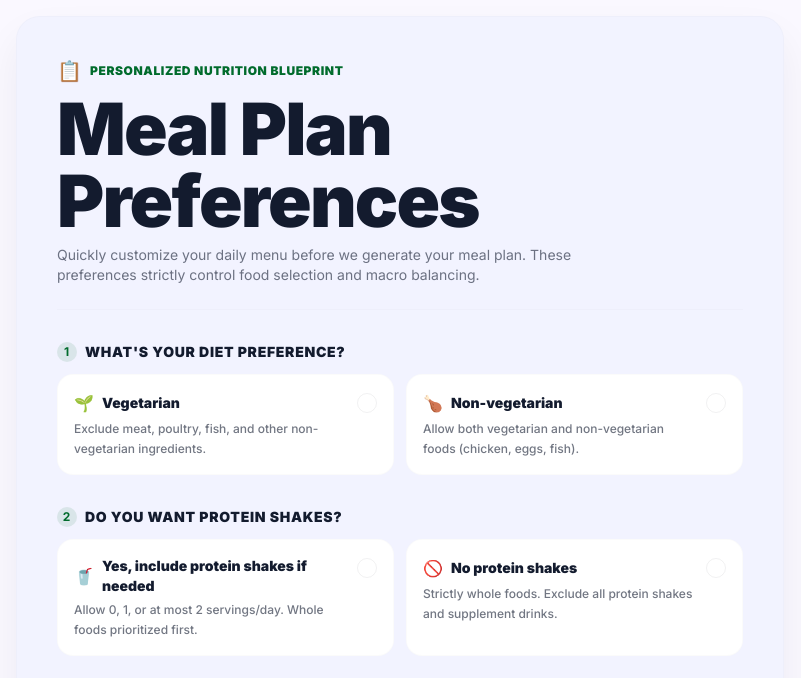
MealPlanQuestionnaire Component › meat-selection question appears only for non-vegetarian users and supports multi-select
The image size is (801, 678).
Click the button with id "diet-opt-vegetarian" at (226, 424), box [57,374,394,475]
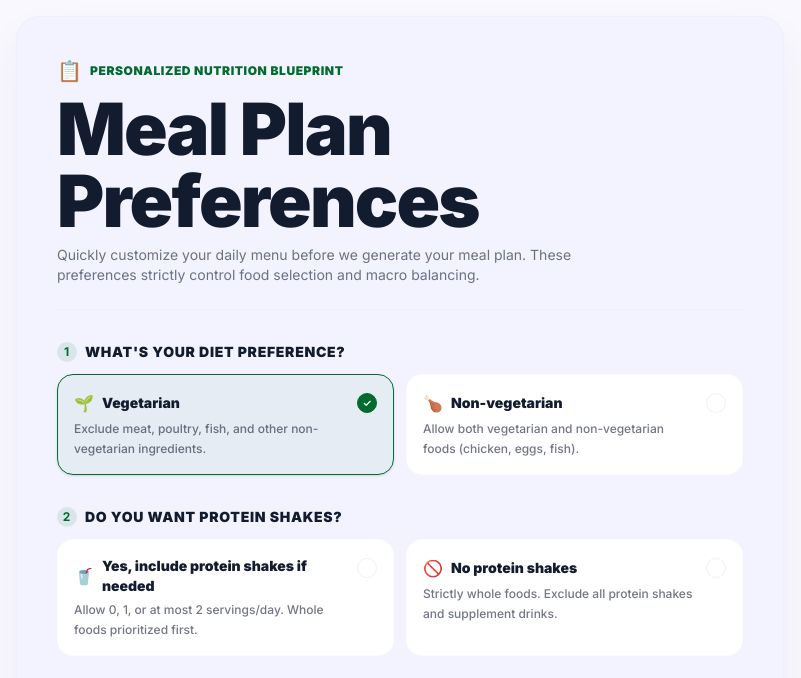
Expected: the text "Which non-vegetarian foods do you eat?" is not shown
Click the button with id "diet-opt-non-vegetarian" at (574, 424), box [406,374,743,475]
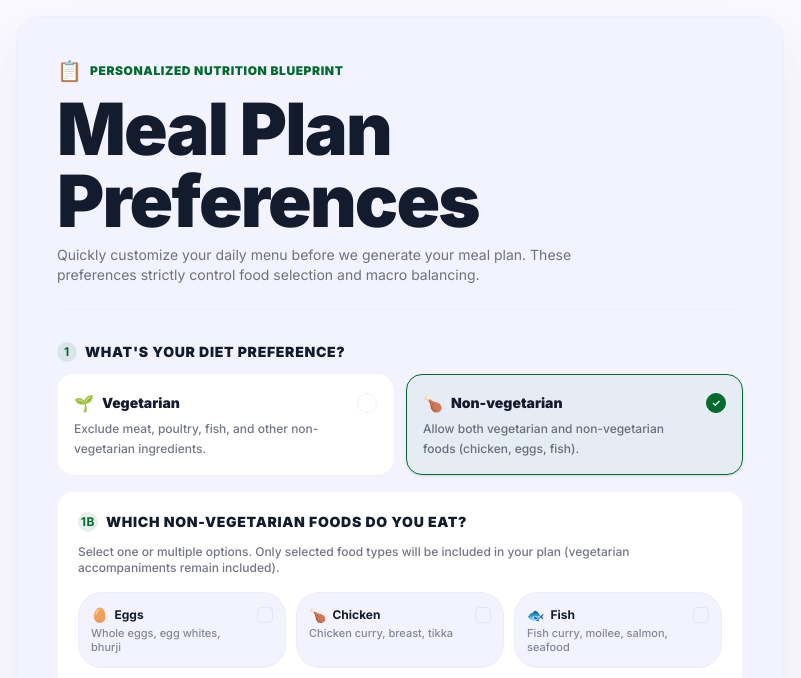
Now the text "Which non-vegetarian foods do you eat?" is shown, box [106,512,467,532]
Now the button with id "meat-opt-eggs" is shown
Now the button with id "meat-opt-chicken" is shown, box [296,592,504,668]
# Multi-select Eggs and Chicken
Click the button with id "meat-opt-eggs" at (182, 630), box [78,592,286,668]
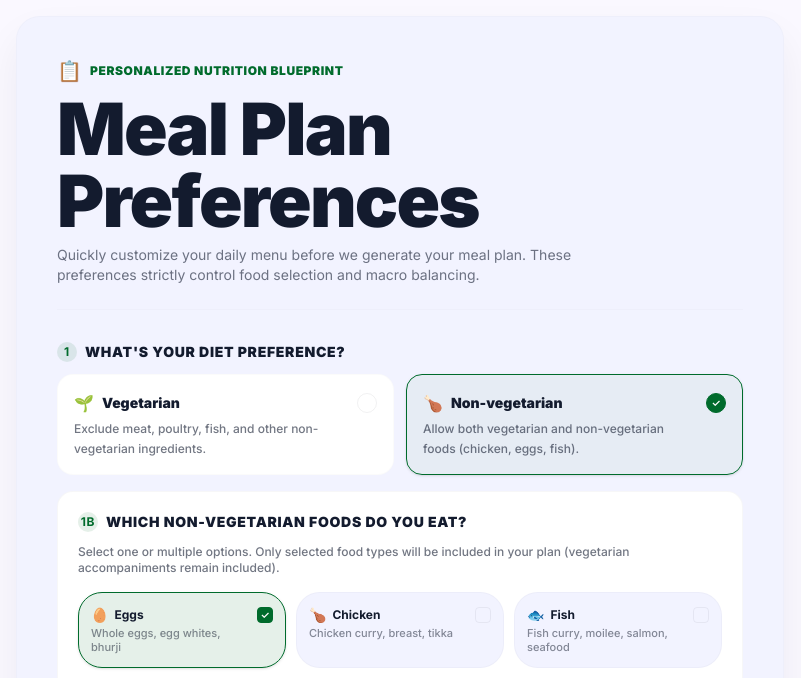
Click the button with id "meat-opt-chicken" at (400, 630), box [296,592,504,668]
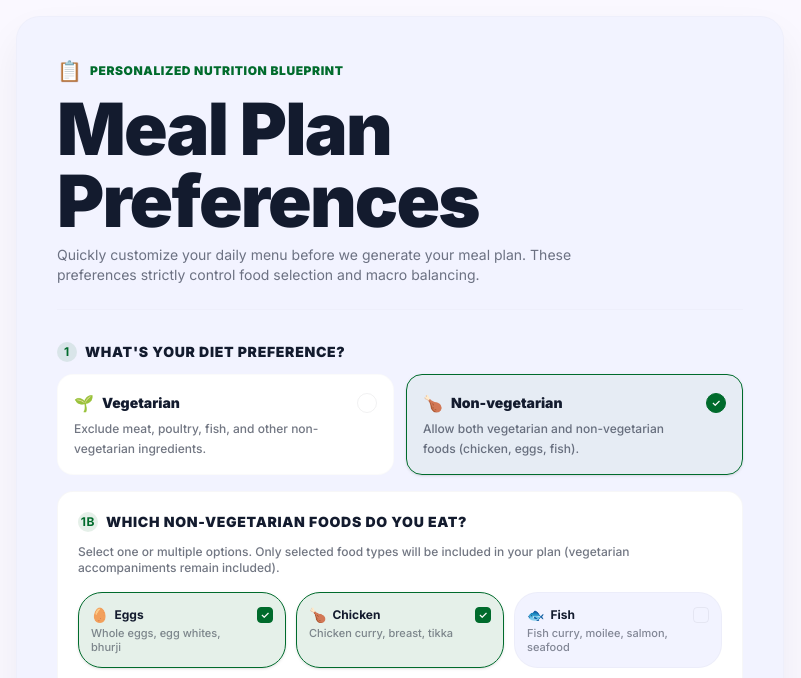
Click the button with id "diet-opt-vegetarian" at (226, 424), box [57,374,394,475]
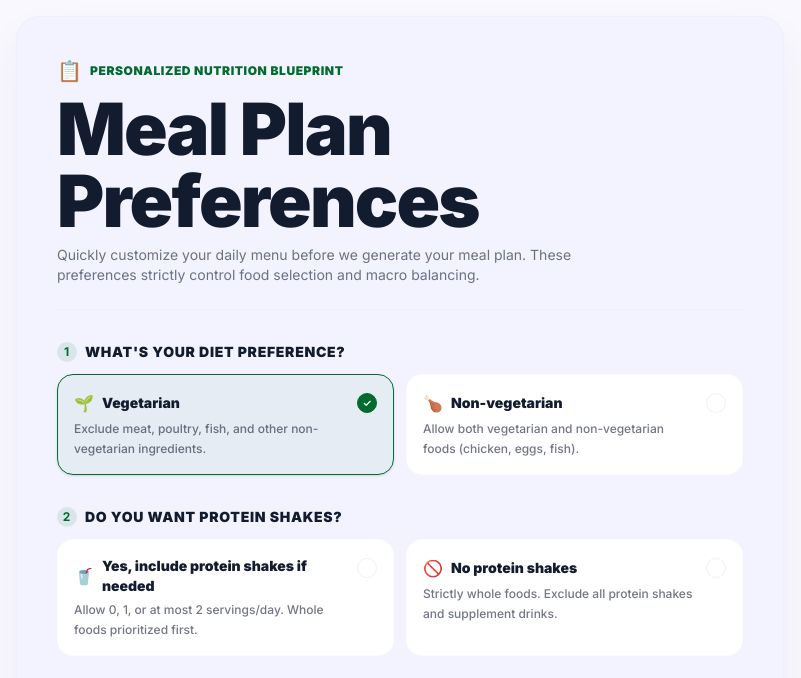
Now the text "Which non-vegetarian foods do you eat?" is gone
